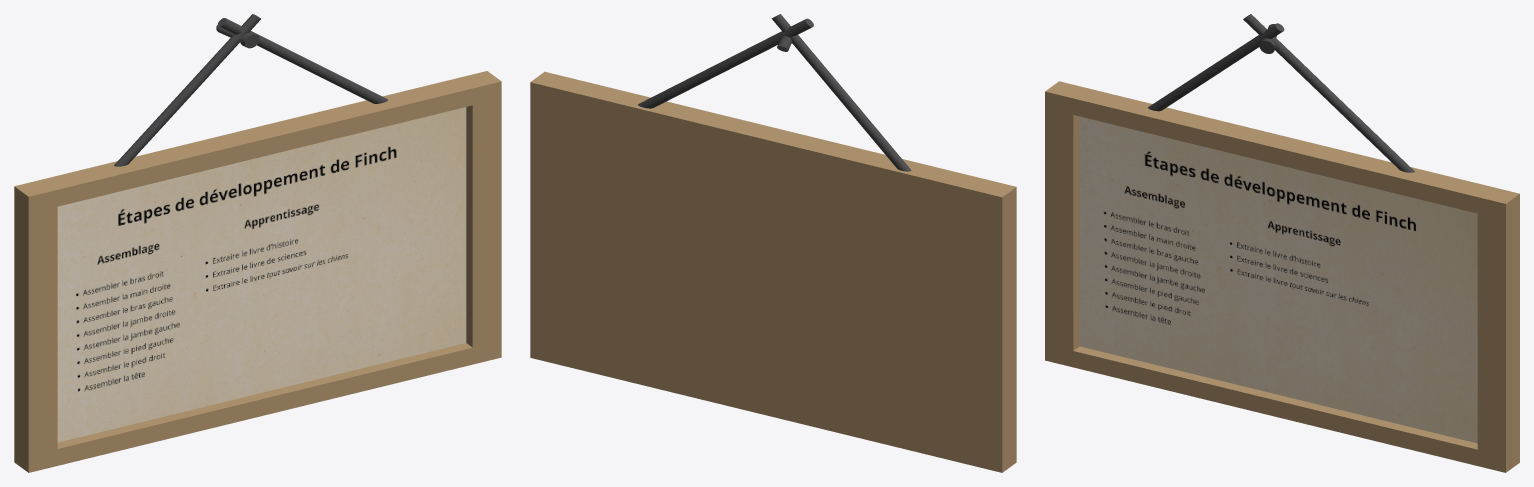
Rendered from tableauEtape.fbx.
3 views of the same model, side by side, from view 1: azimuth 30°, elevation 25°; view 2: azimuth 150°, elevation 25°; view 3: azimuth 330°, elevation 25° (orthographic). The views are drawn at different scales.
Parts seen in each view (by area): view 1: Cube.542; view 2: Cube.542; view 3: Cube.542.
Boxes of the visible parts, <box> form: Cube.542: <box>14,14,501,472</box>; Cube.542: <box>530,14,1016,472</box>; Cube.542: <box>1045,14,1519,472</box>.
Bounding box in the file's own units: 166 × 134 × 13.54.
